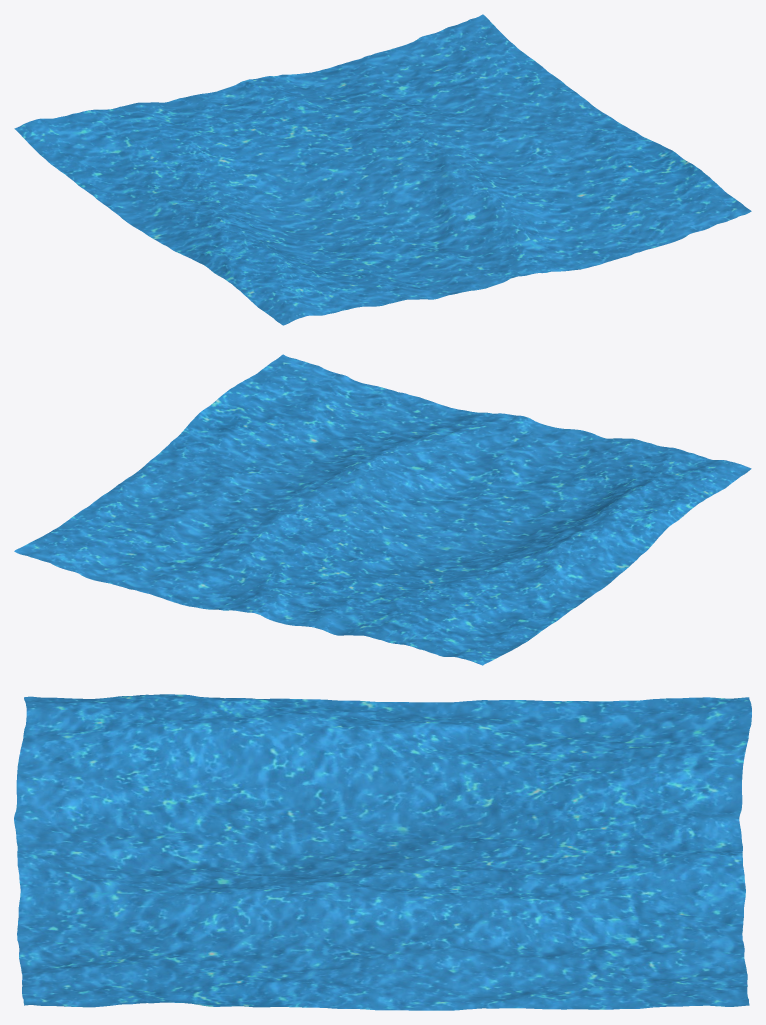
Rendered from apa.obj.
3 views of the same model, one above another, from view 1: azimuth 30°, elevation 25°; view 2: azimuth 150°, elevation 25°; view 3: azimuth 270°, elevation 25° (orthographic). The views are drawn at different scales.
Parts seen in each view (by area): view 1: Cube; view 2: Cube; view 3: Cube.
Part boxes in pixels (<box>): Cube: <box>14,14,751,325</box>; Cube: <box>14,354,751,665</box>; Cube: <box>14,694,751,1010</box>.
Size of the model in its own units: 723 by 37.8 by 719.
1 material, 1 textured.
